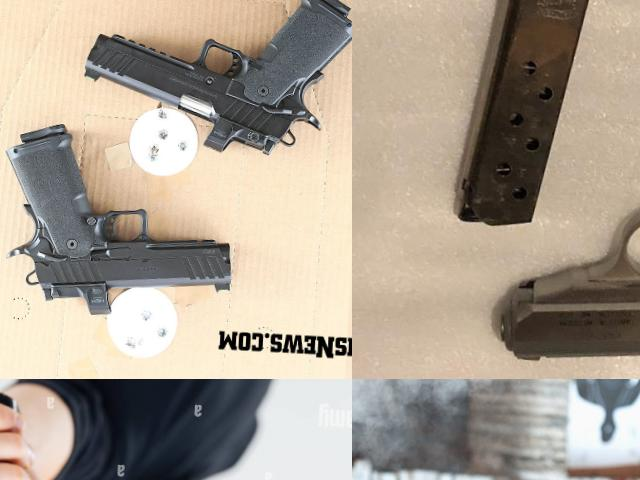handgun: (491, 15, 640, 379), (0, 116, 239, 321), (76, 0, 352, 164), (457, 379, 551, 429)
